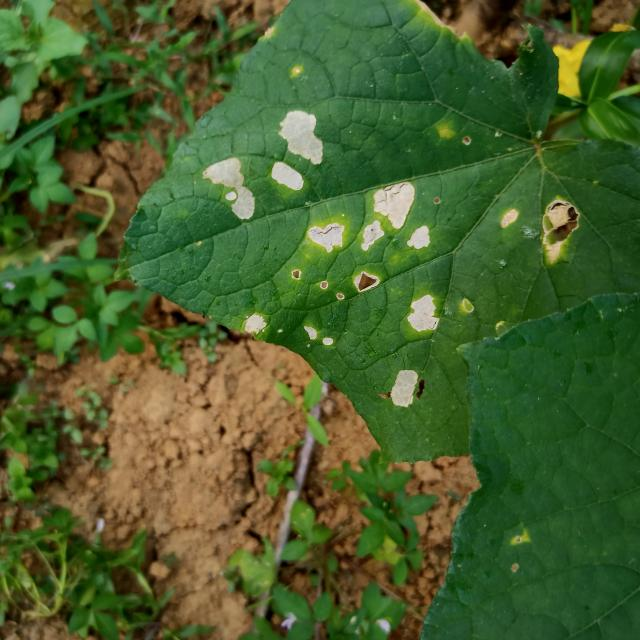disease_cucumber: (306, 180, 433, 292), (498, 200, 582, 264), (265, 109, 329, 193), (200, 155, 257, 221), (406, 292, 440, 334), (389, 366, 419, 409), (301, 322, 337, 350), (242, 311, 269, 336)
